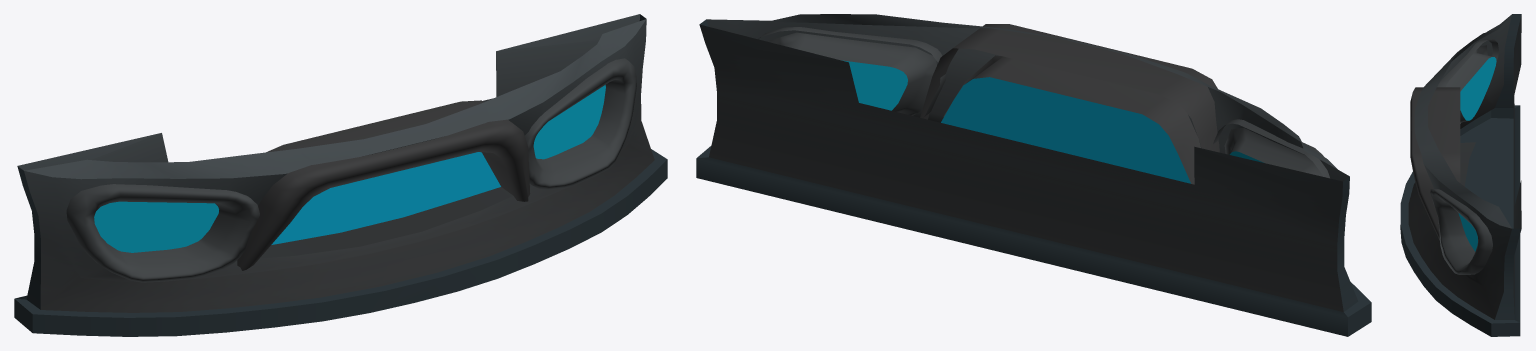
The model's file is Car_05_FrontBumper_Simple.fbx.
The picture shows the model from 3 angles, left to right: view 1: azimuth 30°, elevation 25°; view 2: azimuth 150°, elevation 25°; view 3: azimuth 270°, elevation 25°; orthographic projection. The views are drawn at different scales.
Visible parts, largest first — view 1: Car_05_FrontBumper_Simple; view 2: Car_05_FrontBumper_Simple; view 3: Car_05_FrontBumper_Simple.
Part boxes in pixels (x1,y1,x2,y2): Car_05_FrontBumper_Simple: (14,14,667,336); Car_05_FrontBumper_Simple: (696,14,1371,336); Car_05_FrontBumper_Simple: (1400,14,1521,336).
Bounding box in the file's own units: 190 × 44.57 × 44.95.
